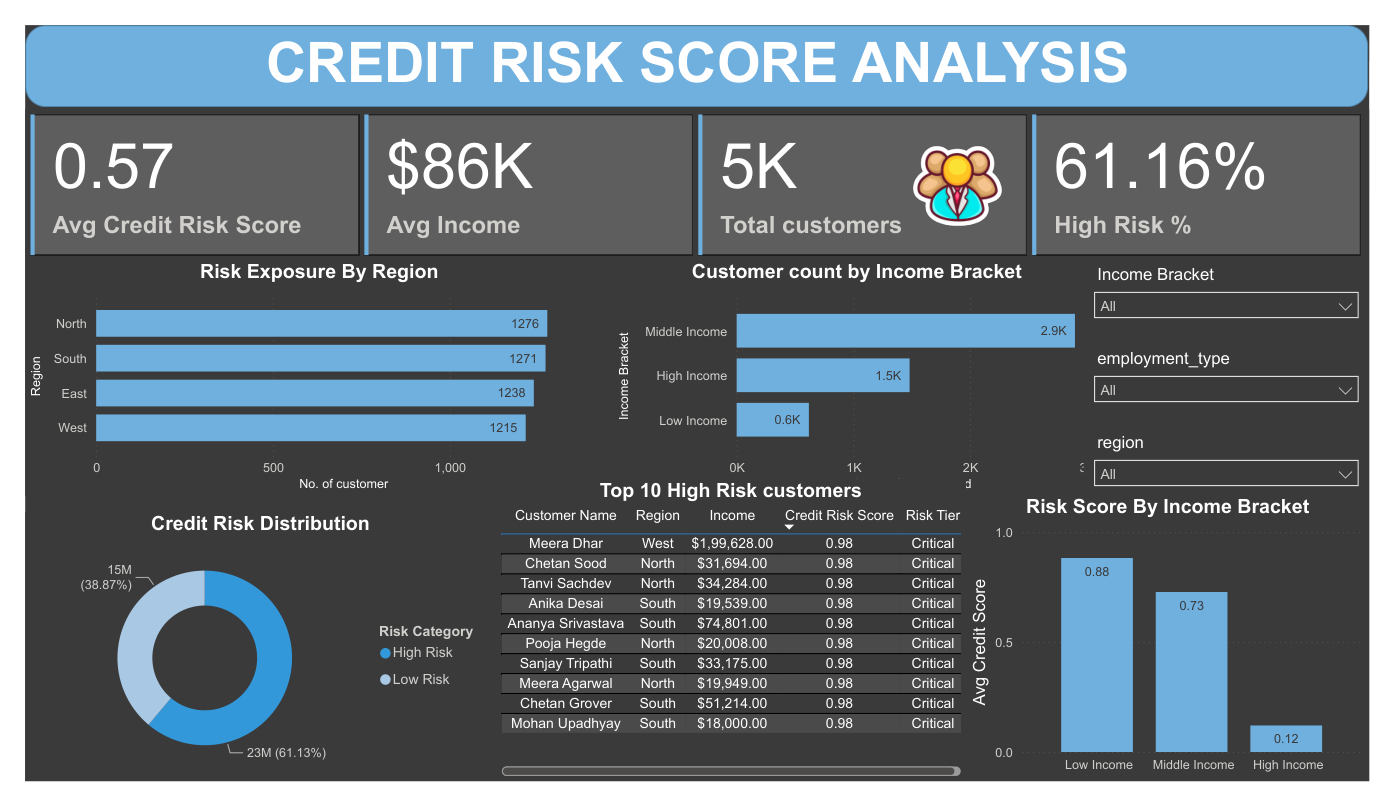

What the dashboard file says about the page in this screenshot:
{"tool":"powerbi","page":{"name":"Page 1","canvas":[1280,720],"ordinal":0},"visuals":[{"type":"shape","box":[0,0,1279.4,78.3],"z":0,"group":"g1"},{"type":"cardVisual","fields":{"Data":["customers.Avg Credit Risk Score","customers.Avg Income","customers.Total customers","customers.High Risk %"]},"box":[0,80,1280,144],"z":0},{"type":"textbox","box":[17,0,1247.3,78.3],"z":1000,"group":"g1"},{"type":"donutChart","title":"Credit Risk Distribution","fields":{"Category":["customers.Risk Category"],"Y":["Sum(customers.customer_id)"]},"box":[0,464,448,256],"z":1000},{"type":"group","id":"g1","title":"Group 1","box":[0,0,1280,80],"z":2000},{"type":"barChart","title":"Risk Exposure By Region","fields":{"Category":["customers.region"],"Y":["CountNonNull(customers.customer_id)"]},"box":[0,224,560,224],"z":3000},{"type":"clusteredBarChart","title":"Customer count by Income Bracket","fields":{"Category":["customers.Income Bracket"],"Y":["CountNonNull(customers.customer_id)"]},"box":[560,224,464,224],"z":4000},{"type":"tableEx","title":"Top 10 High Risk customers ","fields":{"Values":["customers.name","customers.region","Sum(customers.income)","Sum(customers.credit_risk_score)","customers.Risk Tier"]},"box":[448,432,448,288],"z":5000},{"type":"slicer","fields":{"Values":["customers.region"]},"box":[1008,384,272,64],"z":6000},{"type":"slicer","fields":{"Values":["customers.employment_type"]},"box":[1008,304,272,80],"z":7000},{"type":"slicer","fields":{"Values":["customers.Income Bracket"]},"box":[1008,224,272,80],"z":8000},{"type":"clusteredColumnChart","title":"Risk Score By Income Bracket","fields":{"Category":["customers.Income Bracket"],"Y":["Avg(customers.credit_risk_score)"]},"box":[896,448,384,272],"z":9001}]}

Visuals, with their boxes in screenshot pixels (x1, y1, x2, y2), scaled from the page's 1280x720 canvas onto the 1395x807 screenshot:
shape: 0,0,1394,88
cardVisual - customers.Avg Credit Risk Score x customers.Avg Income: 0,90,1394,251
textbox: 19,0,1378,88
"Credit Risk Distribution" donutChart: 0,520,488,806
"Group 1" group: 0,0,1394,90
"Risk Exposure By Region" barChart: 0,251,610,502
"Customer count by Income Bracket" clusteredBarChart: 610,251,1116,502
"Top 10 High Risk customers " tableEx: 488,484,976,806
slicer - customers.region: 1099,430,1394,502
slicer - customers.employment_type: 1099,341,1394,430
slicer - customers.Income Bracket: 1099,251,1394,341
"Risk Score By Income Bracket" clusteredColumnChart: 976,502,1394,806
